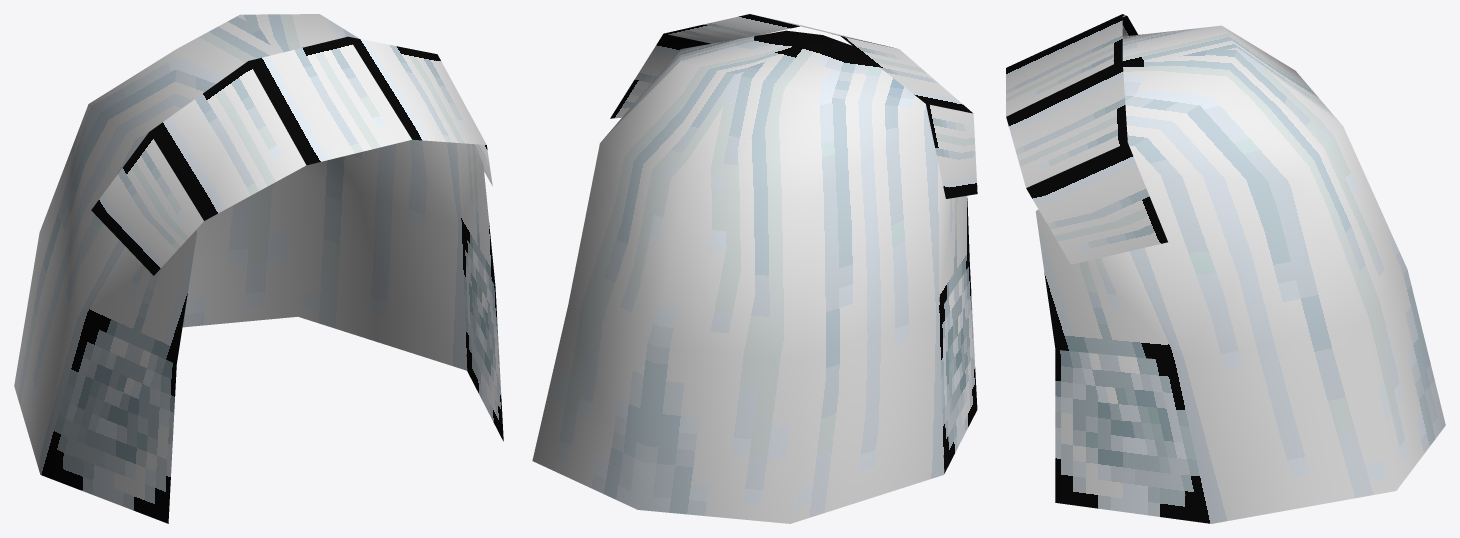
3 views of the same model, side by side, from view 1: azimuth 30°, elevation 25°; view 2: azimuth 150°, elevation 25°; view 3: azimuth 270°, elevation 25° (orthographic). The views are drawn at different scales.
Parts seen in each view (by area): view 1: code_head03; view 2: code_head03; view 3: code_head03.
Part boxes in pixels (x1=…): code_head03: x1=14, y1=14, x2=503, y2=523; code_head03: x1=532, y1=14, x2=977, y2=523; code_head03: x1=1006, y1=14, x2=1445, y2=523.
Bounding box in the file's own units: 0.8955 × 0.8203 × 0.8442.
Materials: 1 (1 with a texture image).
